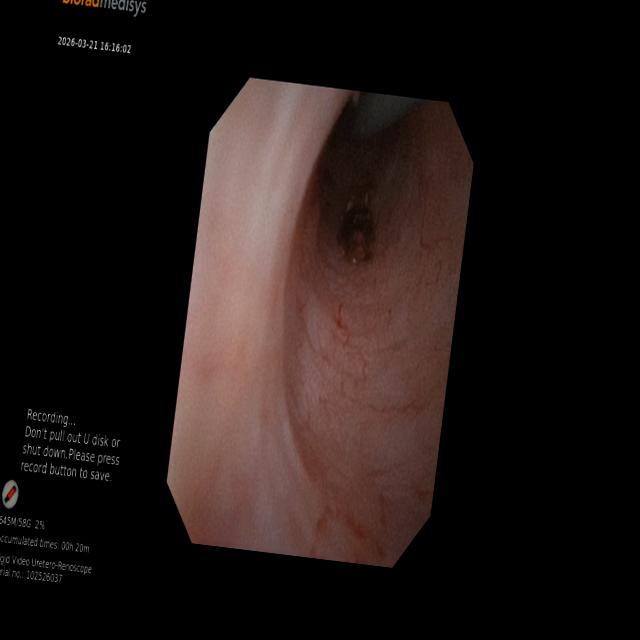stone-new: (336, 186, 375, 262)
